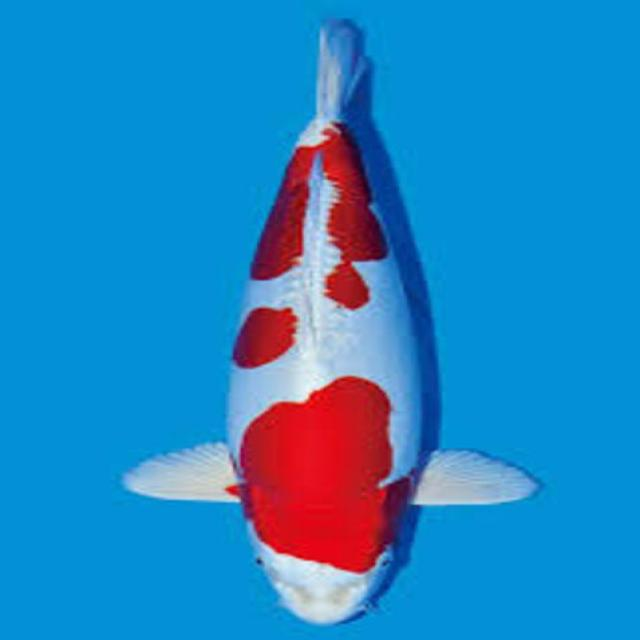Kohaku: (120, 16, 541, 626)
